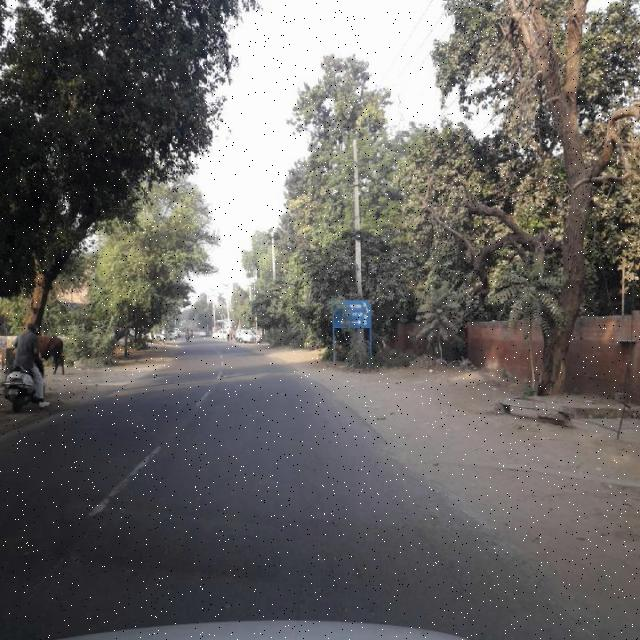D44: (85, 438, 168, 516)
